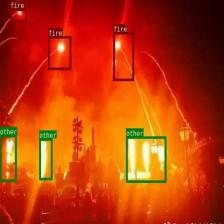fire: (113, 32, 133, 80), (48, 36, 71, 69), (10, 8, 26, 22)
